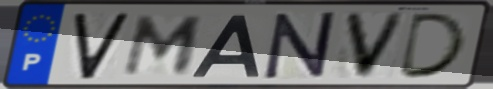A: (188, 12, 263, 79)
D: (394, 10, 471, 80)
M: (118, 13, 208, 78)
N: (262, 10, 338, 82)
V: (341, 10, 411, 81), (71, 10, 134, 82)
